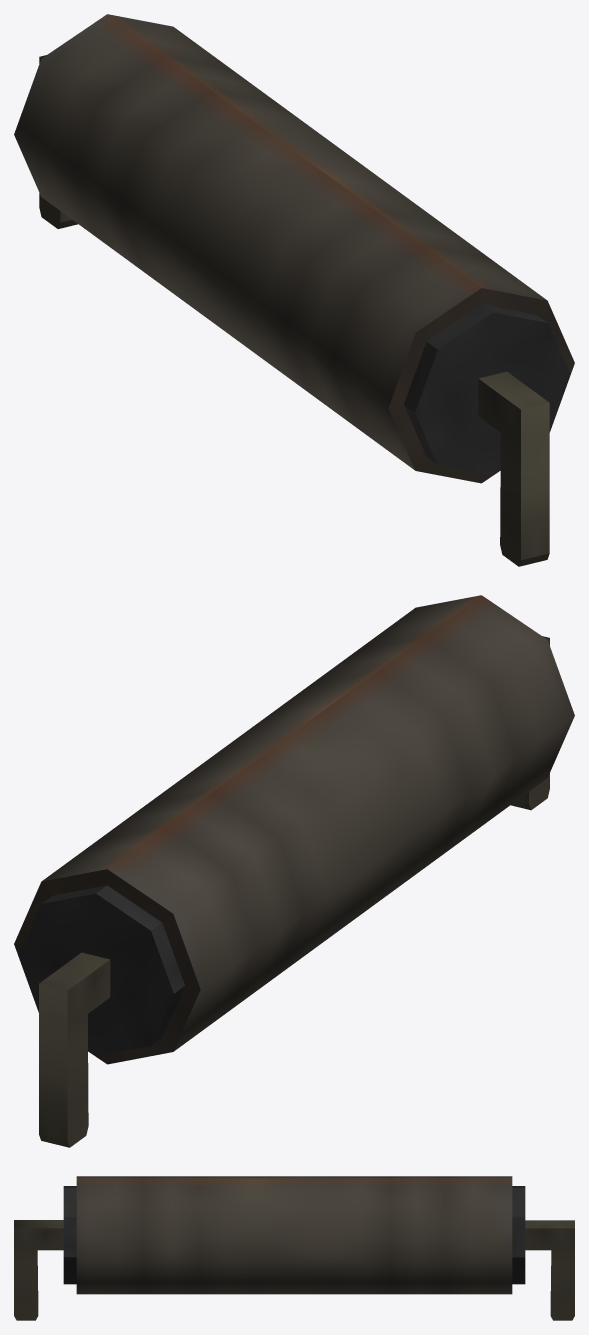
The model's file is capacitor_etx_5.obj.
3 views of the same model, one above another, from view 1: azimuth 30°, elevation 25°; view 2: azimuth 150°, elevation 25°; view 3: azimuth 270°, elevation 25° (orthographic). The views are drawn at different scales.
Visible parts, largest first — view 1: capacitor_etx_5; view 2: capacitor_etx_5; view 3: capacitor_etx_5.
Boxes of the visible parts, x1=… form: capacitor_etx_5: x1=14, y1=14, x2=574, y2=566; capacitor_etx_5: x1=14, y1=595, x2=574, y2=1147; capacitor_etx_5: x1=14, y1=1176, x2=574, y2=1320.
Size of the model in its own units: 0.0432 by 0.0525 by 0.1932.
